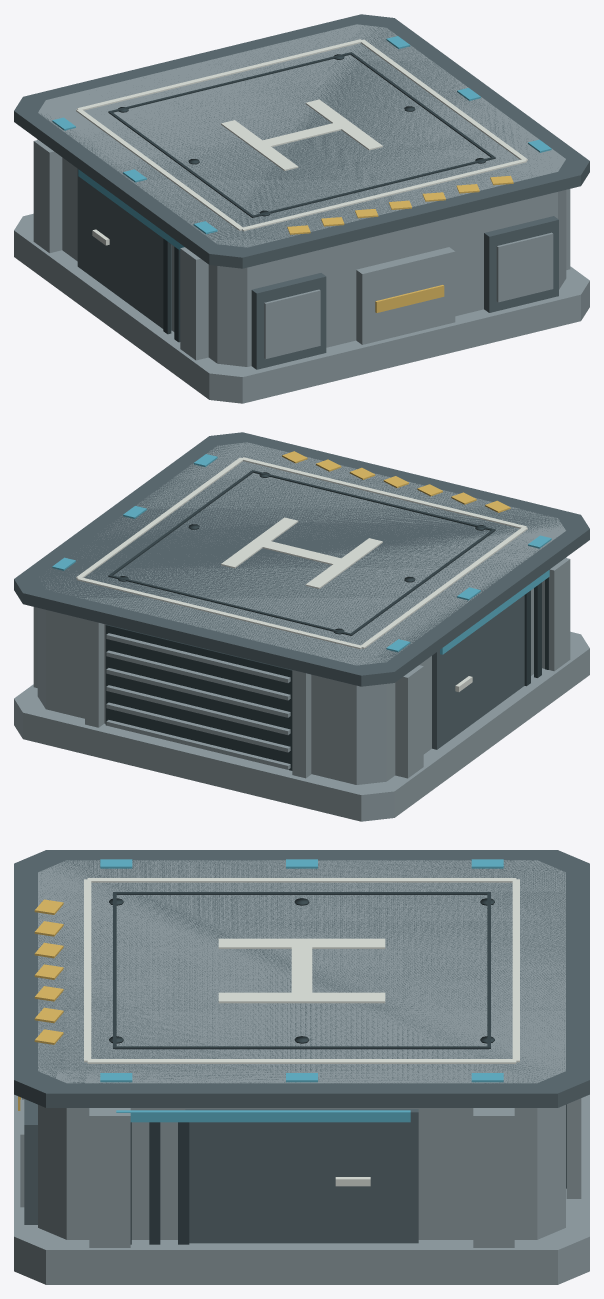
File: MOD_HeliDeck_U2.fbx
The picture shows the model from 3 angles, top to bottom: view 1: azimuth 30°, elevation 25°; view 2: azimuth 150°, elevation 25°; view 3: azimuth 270°, elevation 25°; orthographic projection. The views are drawn at different scales.
Parts seen in each view (by area): view 1: AviationServiceHull, FlightDeck, Foundation, SideServicePanel, RescueEquipmentLocker, CabinetFace.001, CabinetFace, EquipmentCabinet, StructuralButtress.001, EquipmentCabinet.001, StructuralButtress, LandingBoundary.001 (+14 smaller); view 2: FlightDeck, AviationServiceHull, Foundation, MaintenanceShutter, SideServicePanel, StructuralButtress.001, StructuralButtress, DoorJamb, DoorJamb.001, LandingBoundary.003, LandingBoundary.001, ShutterSlat.001 (+17 smaller); view 3: AviationServiceHull, FlightDeck, SideServicePanel.001, Foundation, StructuralButtress.003, StructuralButtress.002, RoleStripe.001, LandingBoundary.002, LandingBoundary, HLeg.001, HLeg, EquipmentCabinet.001 (+10 smaller).
Part boxes in pixels (x1,y1,x2,y2): AviationServiceHull: [37, 24, 566, 366]; FlightDeck: [14, 14, 589, 268]; Foundation: [14, 213, 589, 403]; SideServicePanel: [77, 169, 171, 330]; RescueEquipmentLocker: [356, 247, 455, 344]; CabinetFace.001: [496, 232, 553, 302]; CabinetFace: [264, 289, 320, 358]; EquipmentCabinet: [251, 273, 326, 369]; StructuralButtress.001: [33, 140, 62, 253]; EquipmentCabinet.001: [484, 216, 558, 312]; StructuralButtress: [180, 247, 208, 360]; LandingBoundary.001: [242, 159, 526, 231]; FlightDeck: [14, 432, 589, 686]; AviationServiceHull: [37, 442, 566, 784]; Foundation: [14, 631, 589, 821]; MaintenanceShutter: [105, 624, 292, 770]; SideServicePanel: [432, 595, 524, 749]; StructuralButtress.001: [395, 665, 423, 778]; StructuralButtress: [542, 558, 570, 671]; DoorJamb: [292, 670, 311, 778]; DoorJamb.001: [85, 619, 104, 727]; LandingBoundary.003: [77, 577, 362, 649]; LandingBoundary.001: [241, 457, 526, 528]; ShutterSlat.001: [106, 702, 290, 752]; AviationServiceHull: [38, 860, 565, 1239]; FlightDeck: [14, 850, 589, 1107]; SideServicePanel.001: [185, 1109, 418, 1243]; Foundation: [14, 1094, 589, 1284]; StructuralButtress.003: [473, 1108, 514, 1247]; StructuralButtress.002: [89, 1108, 130, 1247]; RoleStripe.001: [116, 1110, 410, 1122]; LandingBoundary.002: [87, 1059, 516, 1063]; LandingBoundary: [87, 878, 516, 882]; HLeg.001: [218, 992, 385, 1003]; HLeg: [218, 938, 385, 948]; EquipmentCabinet.001: [24, 1099, 37, 1224].
Bounding box in the file's own units: 180 × 66.7 × 180.
